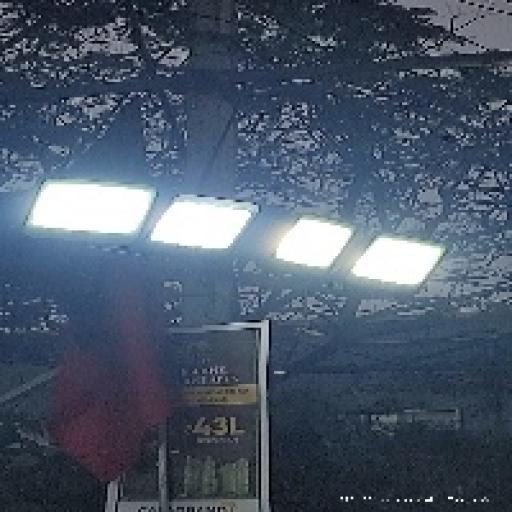Working: (133, 187, 262, 262), (16, 176, 158, 244), (340, 230, 454, 296), (254, 210, 360, 278)
